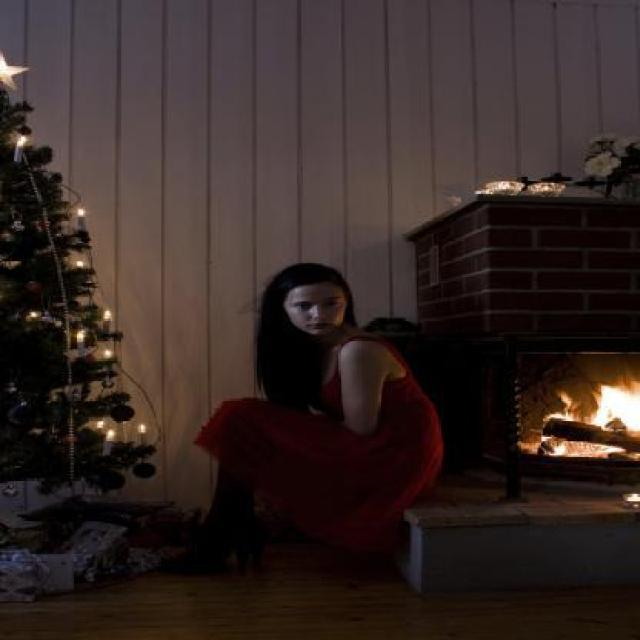Fire: (598, 384, 638, 426), (552, 392, 578, 422), (549, 440, 585, 458), (518, 440, 544, 454)
